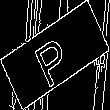P_NW: (32, 24, 78, 86)
